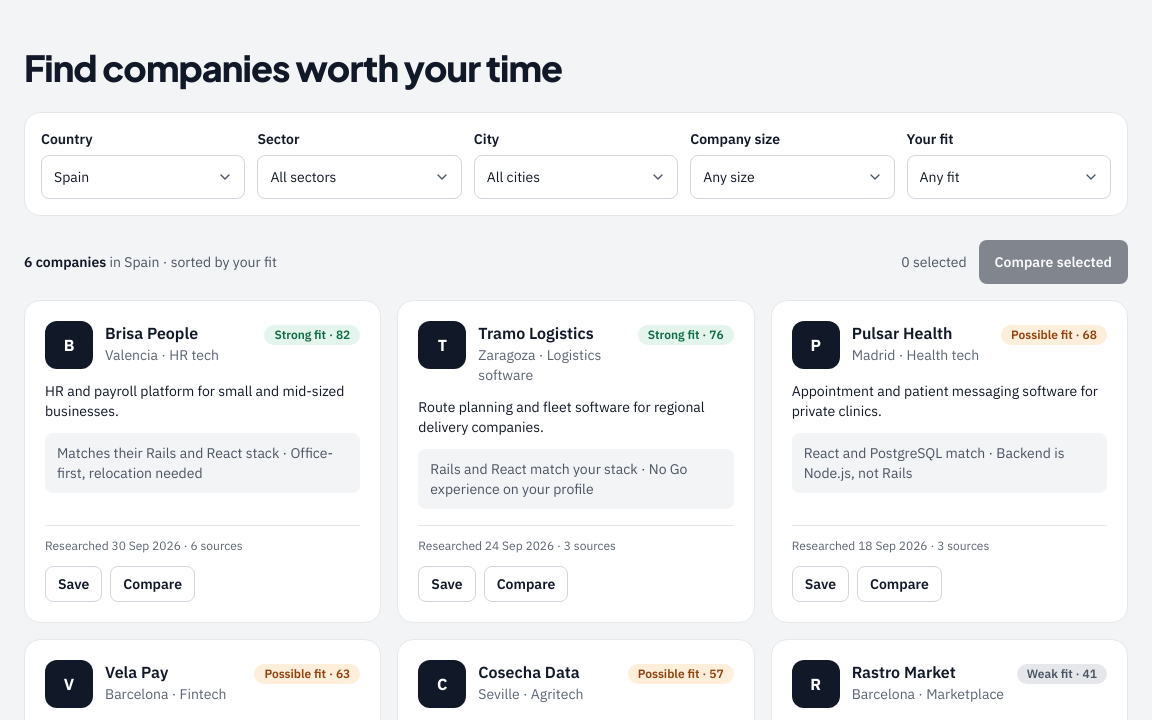
Search › lets you pick at most three companies to compare
This screenshot has width=1152, height=720.
Step 1. Click the button with aria-label "Compare Brisa People" → (153, 584), box [110,566,195,602]
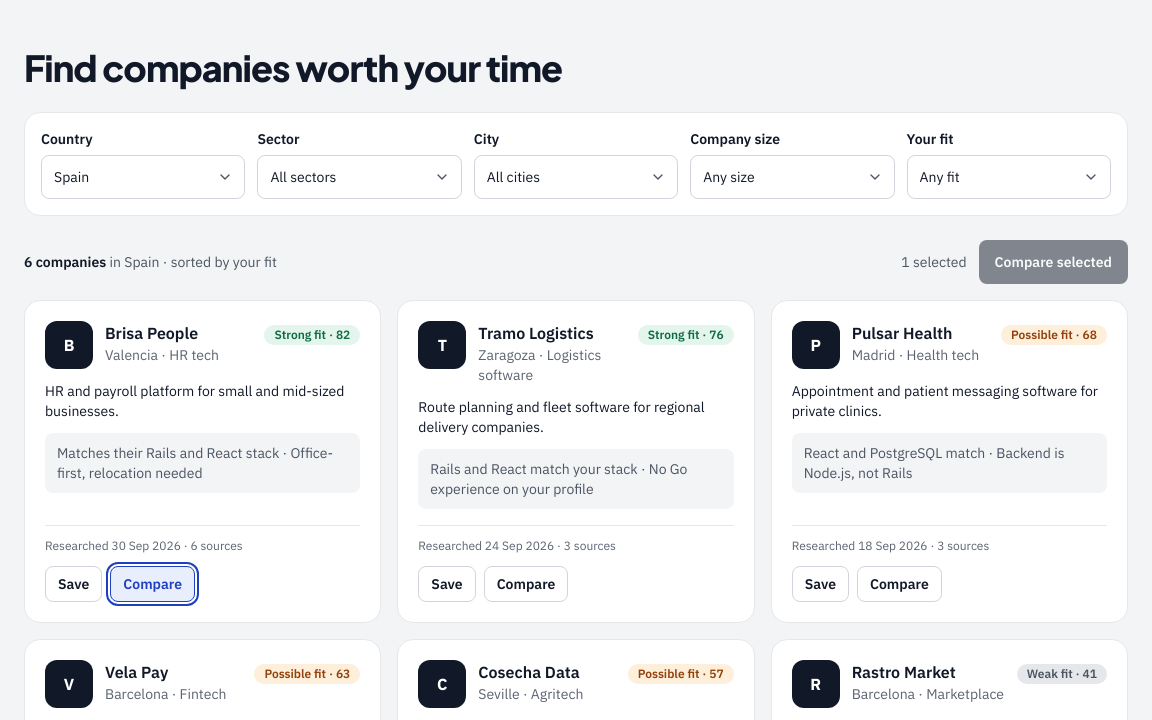
Step 2. Click the button "Compare" below "24 Sep 2026" → (526, 584), box [484,566,568,602]
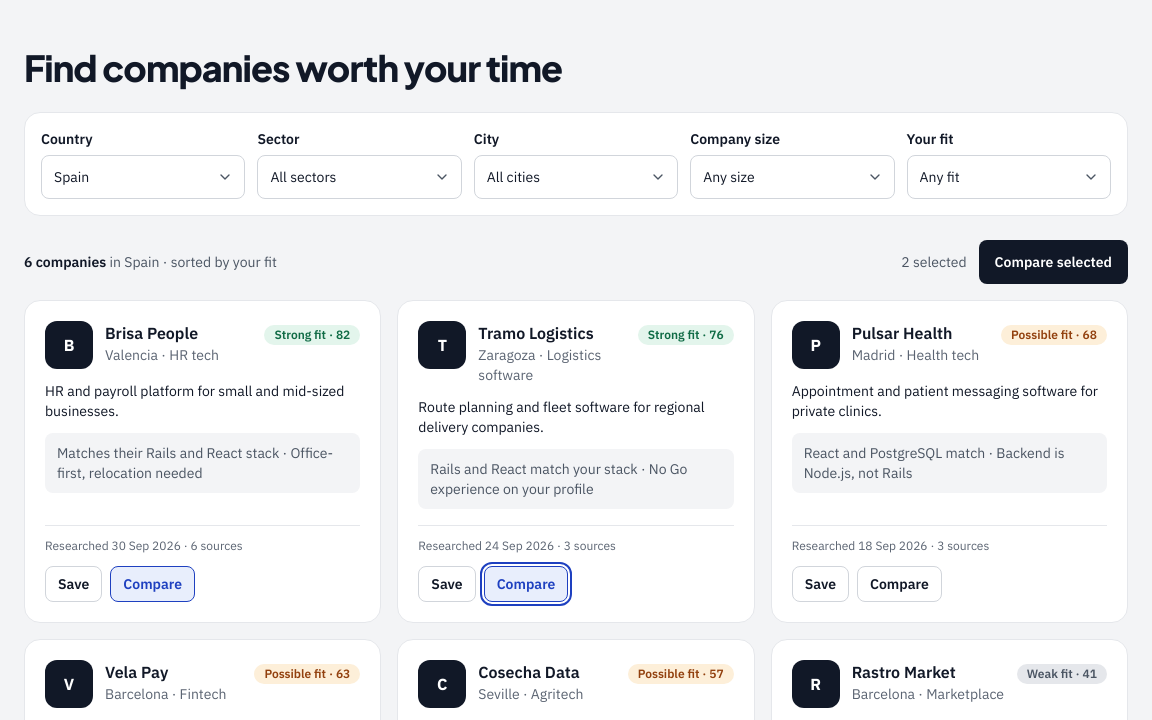
Step 3. Click the button "Compare" below "18 Sep 2026" → (899, 584), box [857,566,942,602]
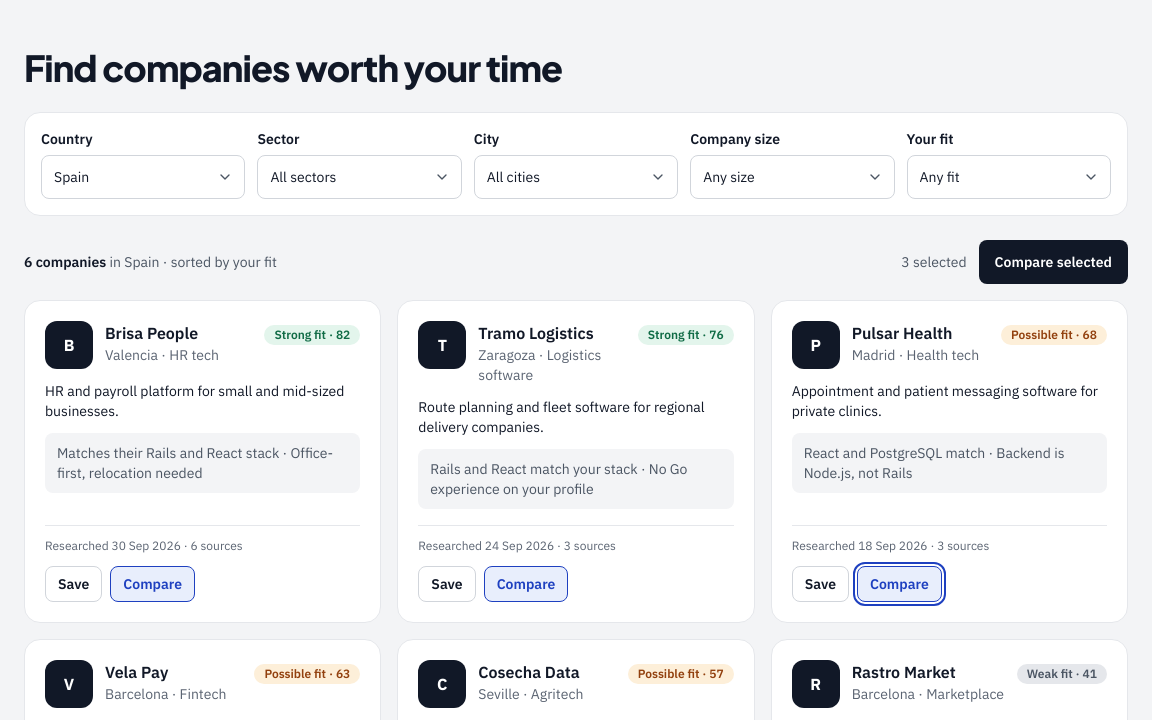
Expected: the text "3 selected" is shown, [901,252,967,272]
